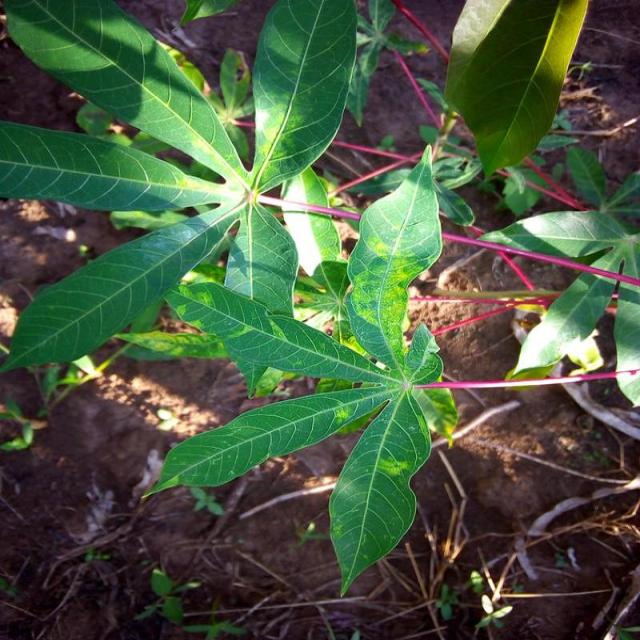cassava leaf: (141, 142, 458, 596), (4, 0, 249, 188), (442, 0, 587, 180), (345, 142, 443, 371), (327, 386, 432, 597), (250, 0, 358, 194)
